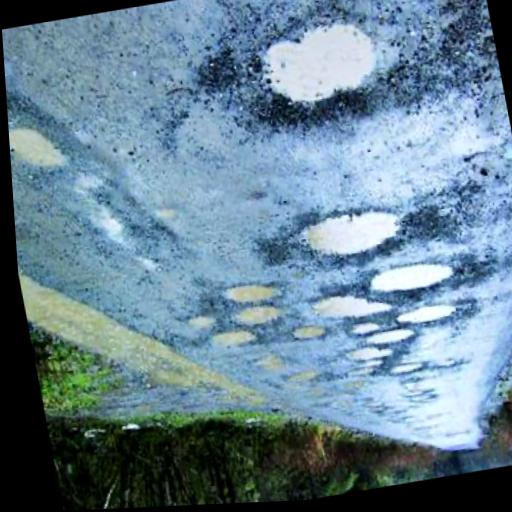pothole: (237, 13, 390, 138), (294, 204, 409, 268), (363, 258, 460, 300), (8, 122, 71, 183), (217, 278, 284, 312), (392, 301, 459, 332), (361, 325, 418, 351), (232, 303, 281, 331), (208, 330, 257, 354), (343, 345, 394, 366), (289, 324, 330, 346), (185, 315, 220, 336), (388, 361, 424, 379)
